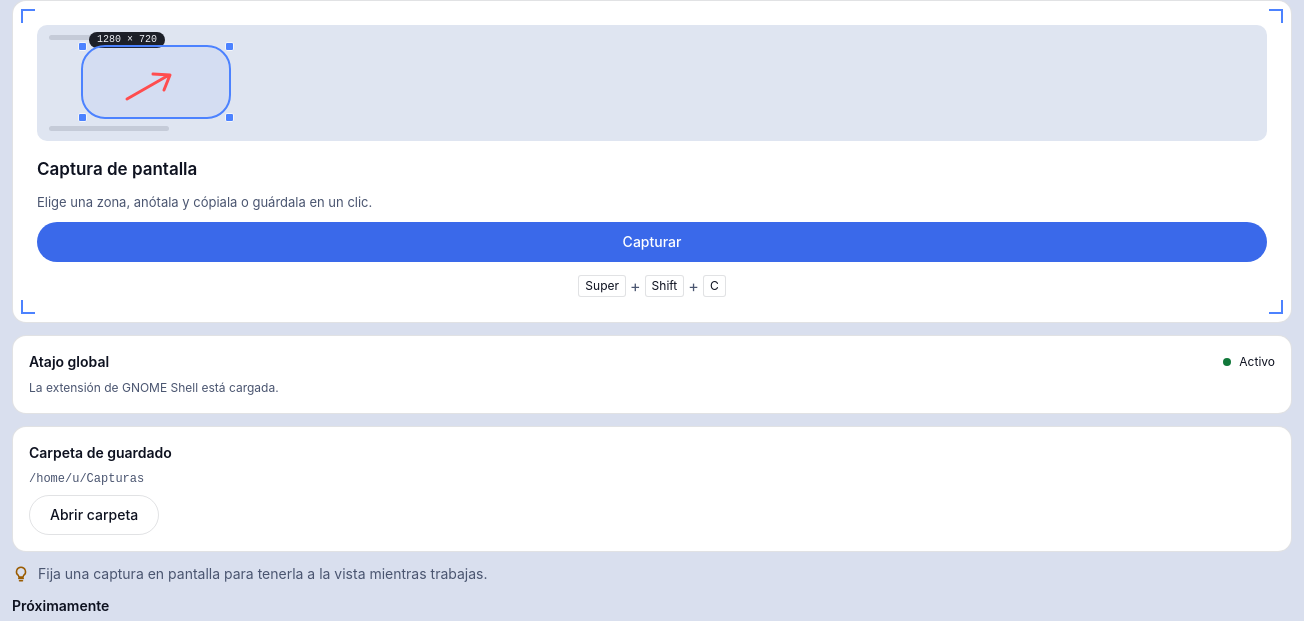
Test: PageHome › si no se puede abrir la carpeta, avisa
This screenshot has width=1304, height=621.
Check: the text "/home/u/Capturas" is shown, box [29,472,144,486]
Click the button "Abrir carpeta".
click(94, 514)  # box [29,494,159,534]
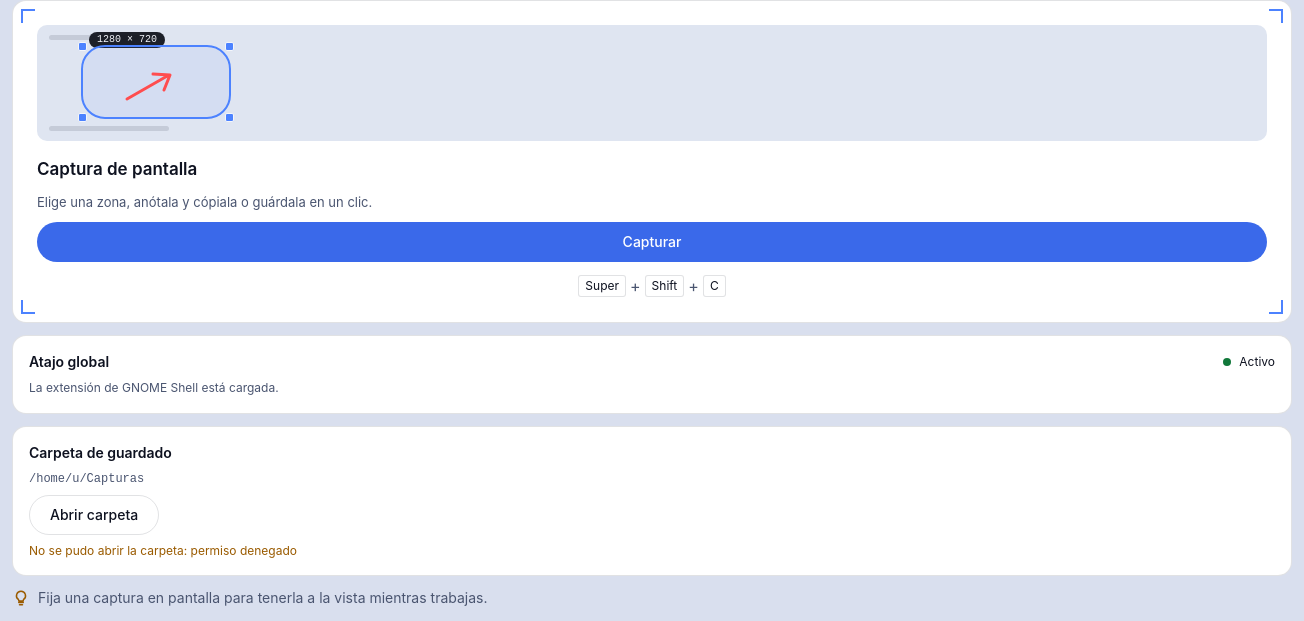
Check: the message "No se pudo abrir la carpeta: permiso denegado" is shown, box [29,542,297,558]
